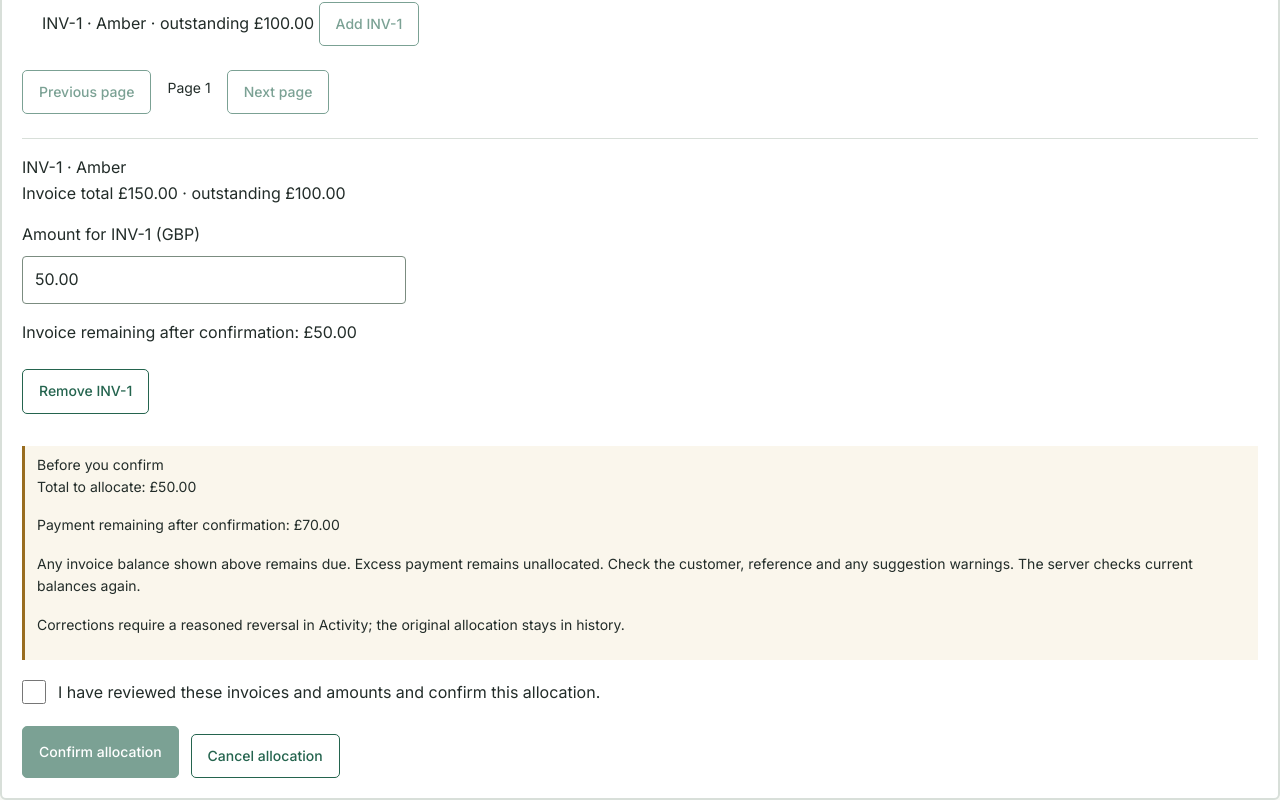
Test case: sends explicit string pence and suggestion identity only after confirmation, then displays receipt
(page scrolled)
What coordinates should you click on to do the following:
click the checkbox
I would click on:
 (34, 692)
Its box is top-left (22, 680), bottom-right (46, 704).
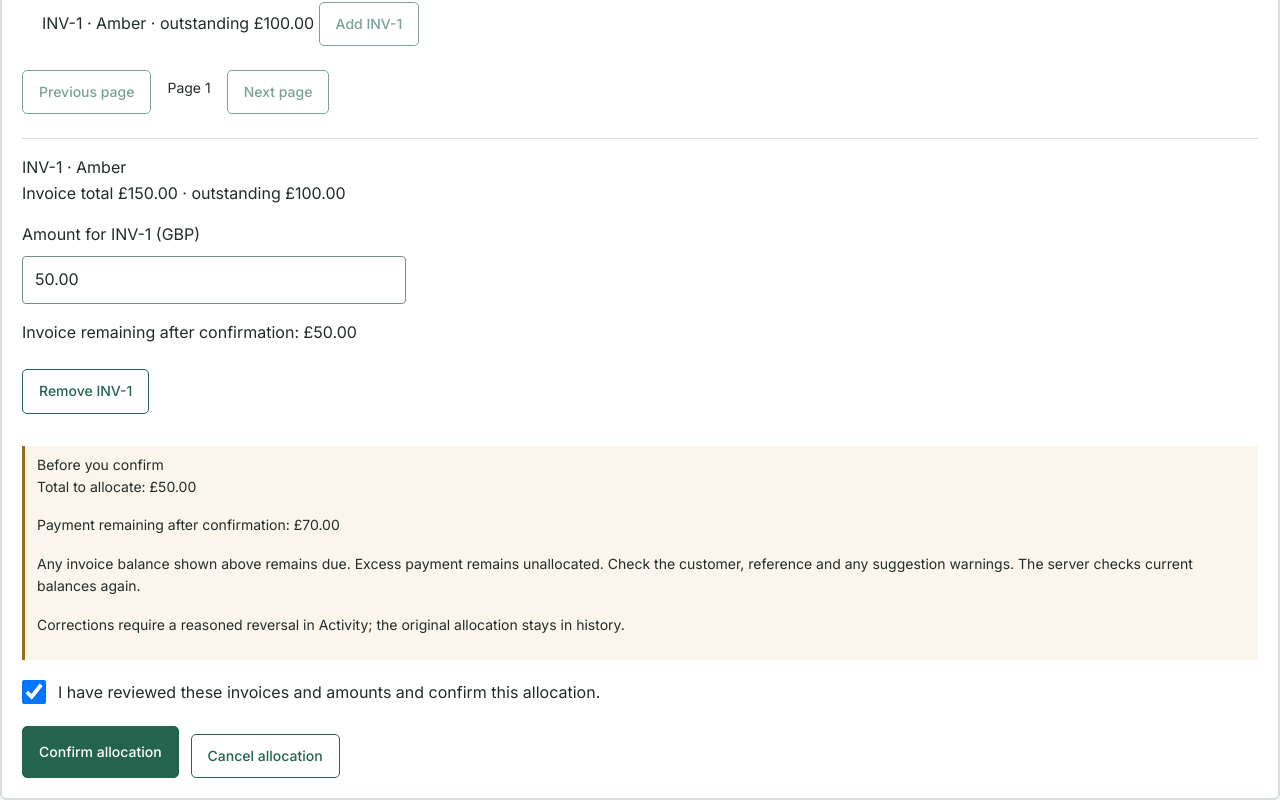
What coordinates should you click on to do the following:
click the button "Confirm allocation"
I would click on:
 (100, 752)
Its box is top-left (22, 726), bottom-right (179, 778).
(page scrolled)
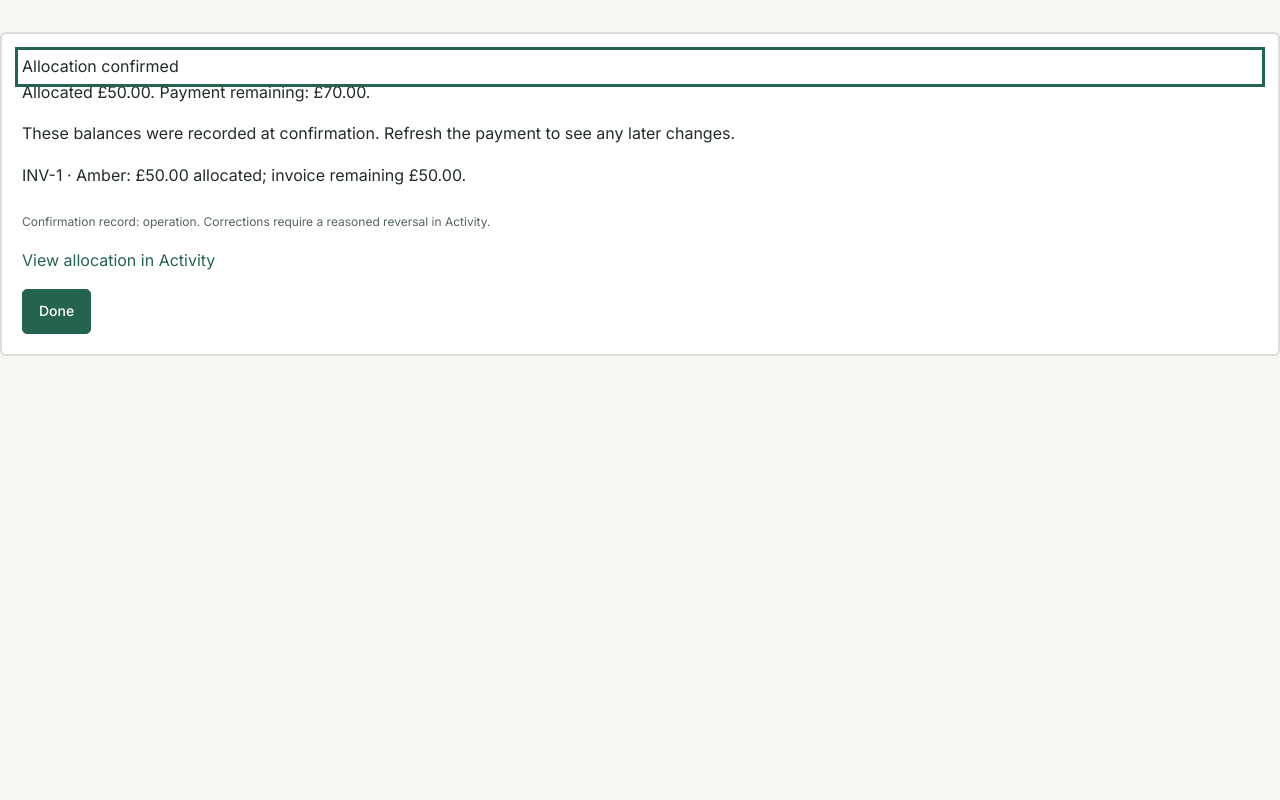
Expected: the heading "Allocation confirmed" is shown, top-left (22, 56), bottom-right (179, 76)
